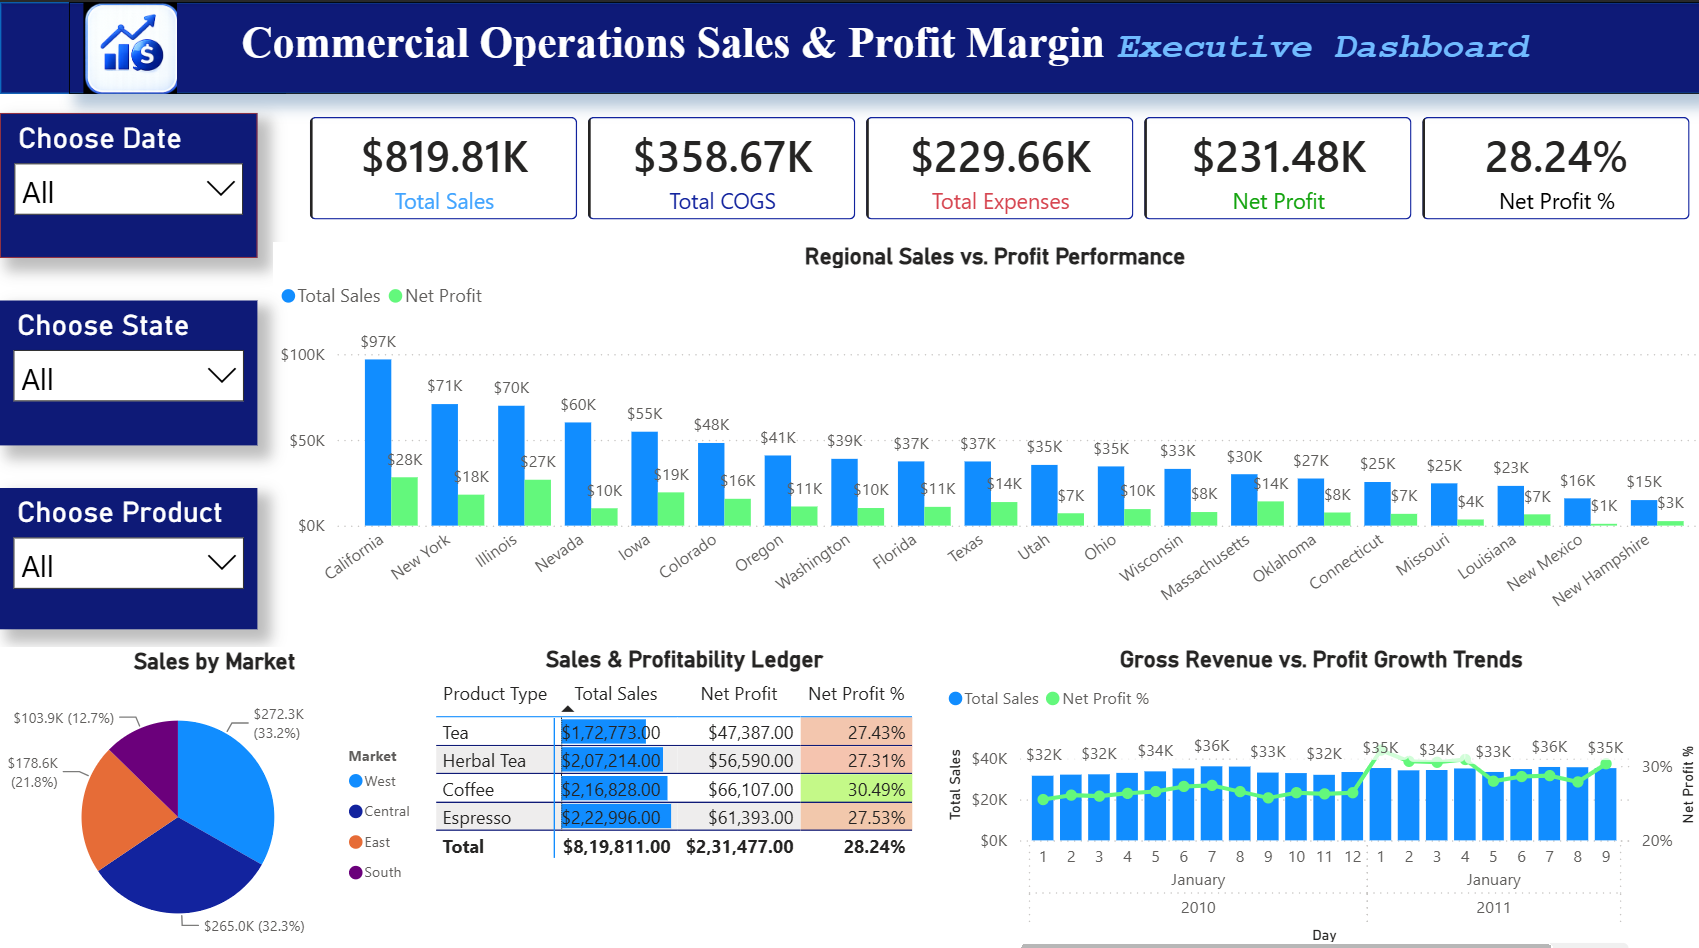

The dashboard page shown, as its layout file describes it:
{"tool":"powerbi","page":{"name":"Sales & Profit Analysis","canvas":[1280,720],"ordinal":0},"visuals":[{"type":"shape","box":[9.1,0,1260.3,68.1],"z":0},{"type":"cardVisual","fields":{"Data":["Dax Measures.Total Sales","Dax Measures.Total COGS","Dax Measures.Total Expenses","Dax Measures.Net Profit","Dax Measures.Net Profit Margin %"]},"box":[220.9,68.1,1059.1,110.4],"z":1000},{"type":"slicer","fields":{"Values":["Fact.Date.Variation.Date Hierarchy.Year","Fact.Date.Variation.Date Hierarchy.Quarter","Fact.Date.Variation.Date Hierarchy.Month"]},"box":[9.1,81.7,190.6,107.4],"z":2000},{"type":"textbox","box":[60.5,0,1208.9,68.1],"z":3000},{"type":"clusteredColumnChart","title":"Regional Sales vs. Profit Performance","fields":{"Category":["Location.State"],"Y":["Dax Measures.Total Sales","Dax Measures.Net Profit"]},"box":[210.7,178.3,1069.7,286.8],"z":4000},{"type":"pivotTable","title":"Sales & Profitability Ledger","fields":{"Rows":["Product.Product Type","Product.Product"],"Values":["Dax Measures.Total Sales","Dax Measures.Net Profit","Dax Measures.Net Profit Margin %"]},"box":[326.8,476.6,378.3,233],"z":5000},{"type":"lineStackedColumnComboChart","title":"Gross Revenue vs. Profit Growth Trends","fields":{"Category":["Fact.Date.Variation.Date Hierarchy.Year","Fact.Date.Variation.Date Hierarchy.Month","Fact.Date.Variation.Date Hierarchy.Day"],"Y":["Dax Measures.Total Sales"],"Y2":["Dax Measures.Net Profit Margin %"]},"box":[705.1,476.6,564.3,233],"z":6000},{"type":"slicer","fields":{"Values":["Location.State"]},"box":[9.1,220.9,190.6,107.4],"z":7000},{"type":"slicer","fields":{"Values":["Product.Product Type"]},"box":[9.1,360.1,190.6,104.4],"z":8000},{"type":"image","box":[0,0,210.3,68.1],"z":9000},{"type":"pieChart","title":"Sales by Market","fields":{"Category":["Location.Market"],"Y":["Dax Measures.Total Sales"]},"box":[8.7,477.5,317.9,231.9],"z":10000}]}

Visuals, with their boxes in screenshot pixels (x1, y1, x2, y2), scaled from the page's 1280x720 canvas onto the 1699x948 screenshot:
shape: (left=12, top=0, right=1685, bottom=90)
cardVisual - Dax Measures.Total Sales x Dax Measures.Total COGS: (left=293, top=90, right=1698, bottom=235)
slicer - Fact.Date.Variation.Date Hierarchy.Year x Fact.Date.Variation.Date Hierarchy.Quarter: (left=12, top=108, right=265, bottom=249)
textbox: (left=80, top=0, right=1685, bottom=90)
"Regional Sales vs. Profit Performance" clusteredColumnChart: (left=280, top=235, right=1698, bottom=612)
"Sales & Profitability Ledger" pivotTable: (left=434, top=628, right=936, bottom=934)
"Gross Revenue vs. Profit Growth Trends" lineStackedColumnComboChart: (left=936, top=628, right=1685, bottom=934)
slicer - Location.State: (left=12, top=291, right=265, bottom=432)
slicer - Product.Product Type: (left=12, top=474, right=265, bottom=612)
image: (left=0, top=0, right=279, bottom=90)
"Sales by Market" pieChart: (left=12, top=629, right=434, bottom=934)
